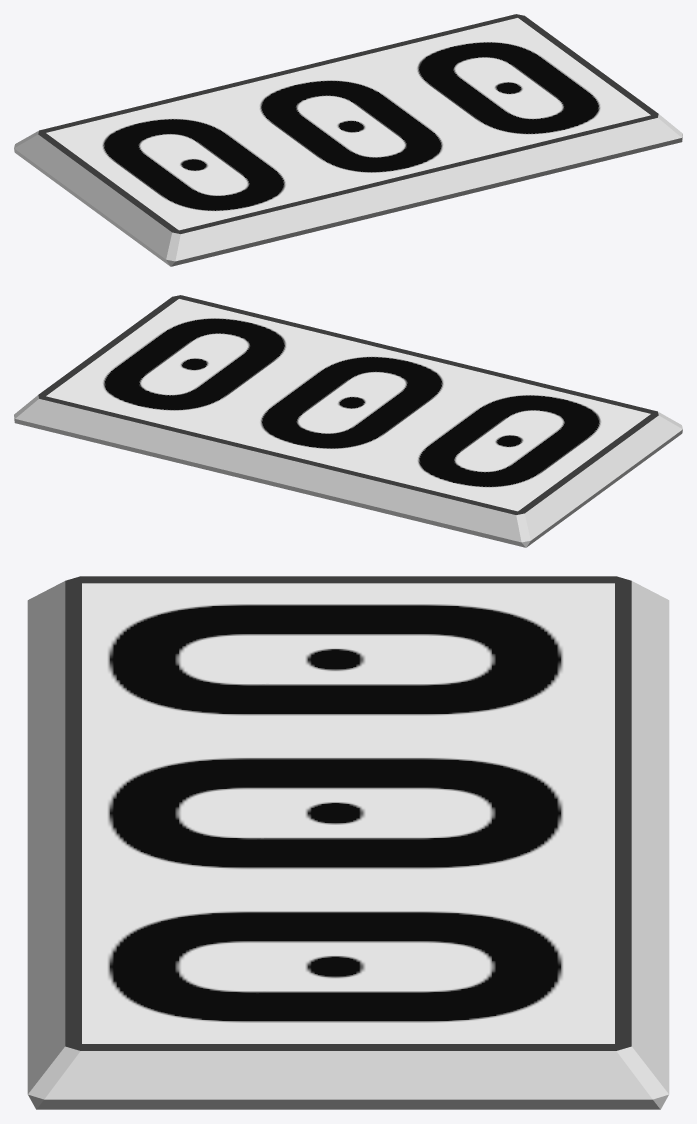
Rendered from IntDisplay.fbx.
3 renders of one model, top to bottom at view 1: azimuth 30°, elevation 25°; view 2: azimuth 150°, elevation 25°; view 3: azimuth 270°, elevation 25°, orthographic. The views are drawn at different scales.
Parts seen in each view (by area): view 1: Display; view 2: Display; view 3: Display.
Part boxes in pixels (x1=…): Display: x1=14, y1=14, x2=682, y2=266; Display: x1=14, y1=295, x2=682, y2=547; Display: x1=27, y1=576, x2=669, y2=1109.
Size of the model in its own units: 4.21 by 2.26 by 0.1811.
1 material, 1 textured.
